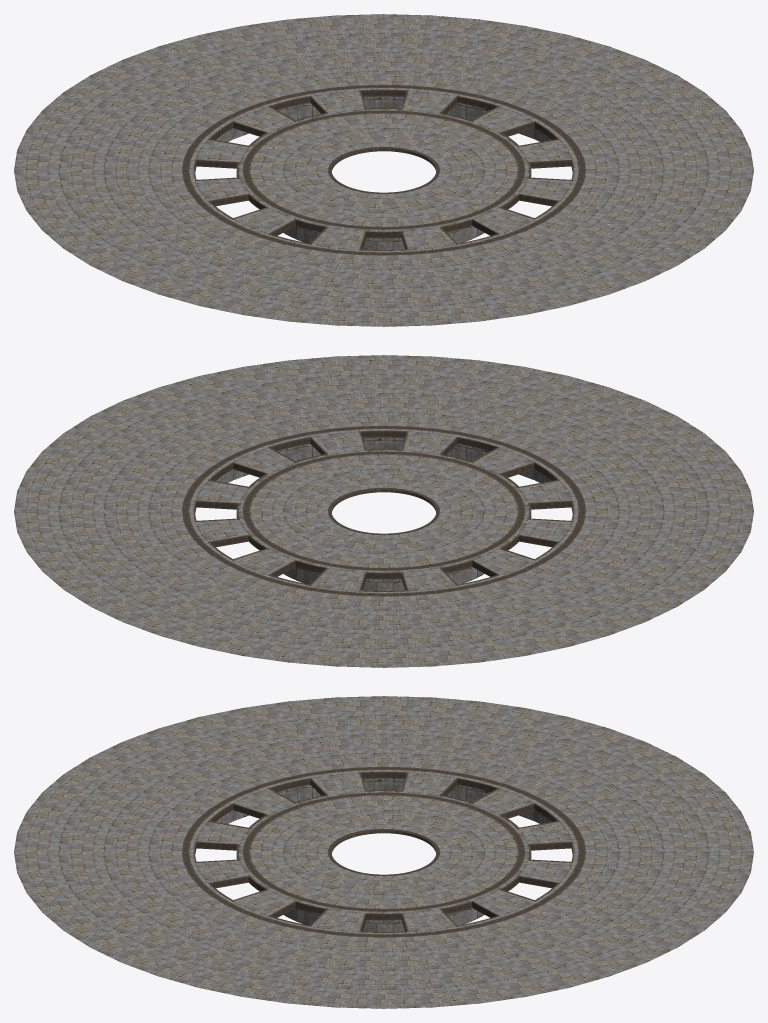
3 renders of one model, top to bottom at view 1: azimuth 30°, elevation 25°; view 2: azimuth 150°, elevation 25°; view 3: azimuth 270°, elevation 25°, orthographic.
Parts seen in each view (by area): view 1: SM_Demon_Gate_Floor_Large_A_LOD0; view 2: SM_Demon_Gate_Floor_Large_A_LOD0; view 3: SM_Demon_Gate_Floor_Large_A_LOD0.
Boxes of the visible parts, bbox=[...] form: SM_Demon_Gate_Floor_Large_A_LOD0: bbox=[14, 14, 753, 326]; SM_Demon_Gate_Floor_Large_A_LOD0: bbox=[14, 355, 753, 667]; SM_Demon_Gate_Floor_Large_A_LOD0: bbox=[14, 696, 753, 1008].
Size of the model in its own units: 70.33 by 3.45 by 70.33.
Materials: 2 (2 with a texture image).
